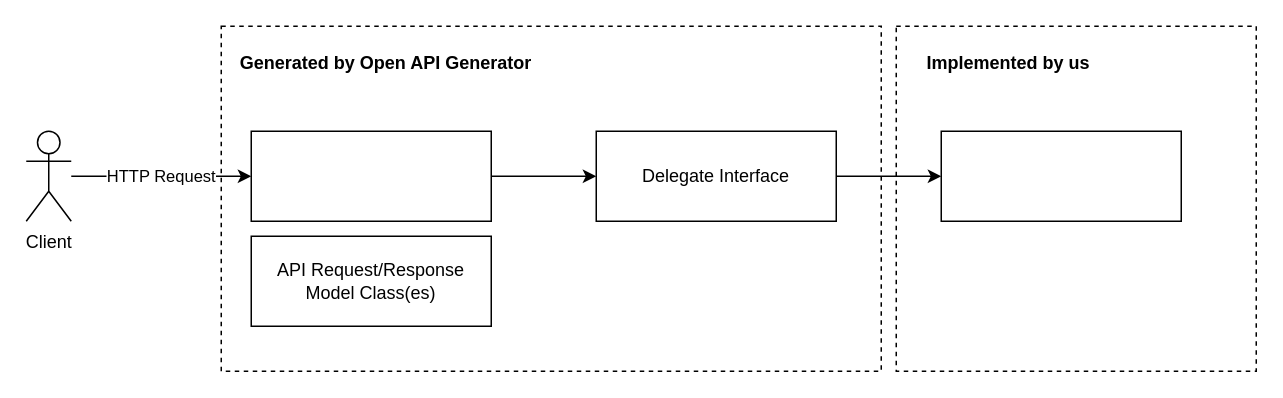
Image size: 1283x398. Some labels were removed from this diagram. Here are the shapes that lost their labels. From the top down, the centre of each, then its label:
pixel 370 175: Controller Class
pixel 1060 175: Delegate Interface Implementation
